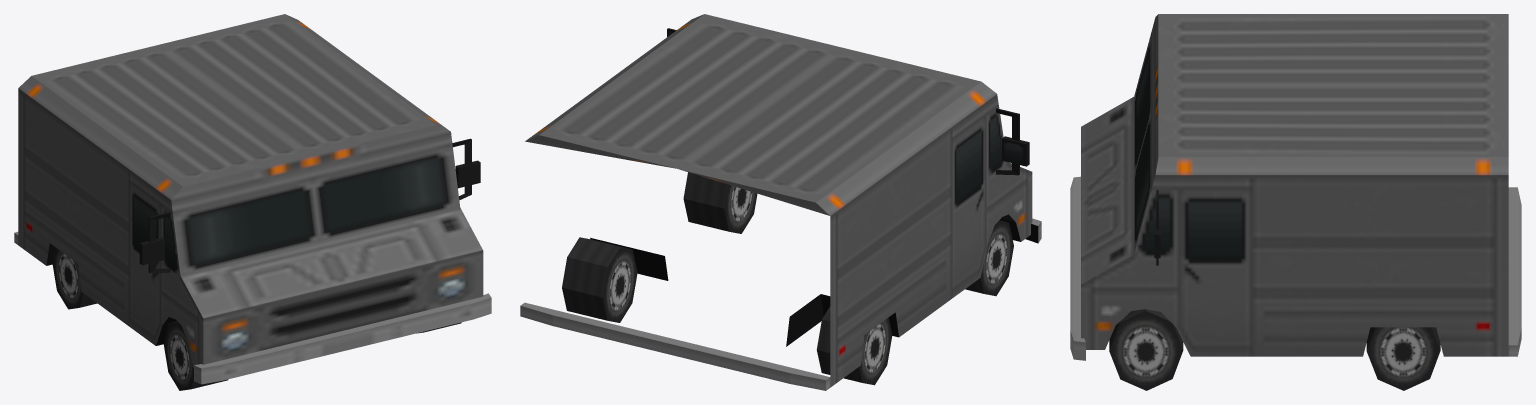
Rendered from ggbot_car08_van_shell.glb.
3 views of the same model, side by side, from view 1: azimuth 30°, elevation 25°; view 2: azimuth 150°, elevation 25°; view 3: azimuth 270°, elevation 25° (orthographic). The views are drawn at different scales.
Parts seen in each view (by area): view 1: world; view 2: world; view 3: world.
Part boxes in pixels (box(x1,y1,x2,y2)): world: box(14, 14, 491, 390); world: box(520, 14, 1041, 390); world: box(1070, 14, 1521, 390).
Bounding box in the file's own units: 4.14 × 2.32 × 4.14.
1 material, 1 textured.
